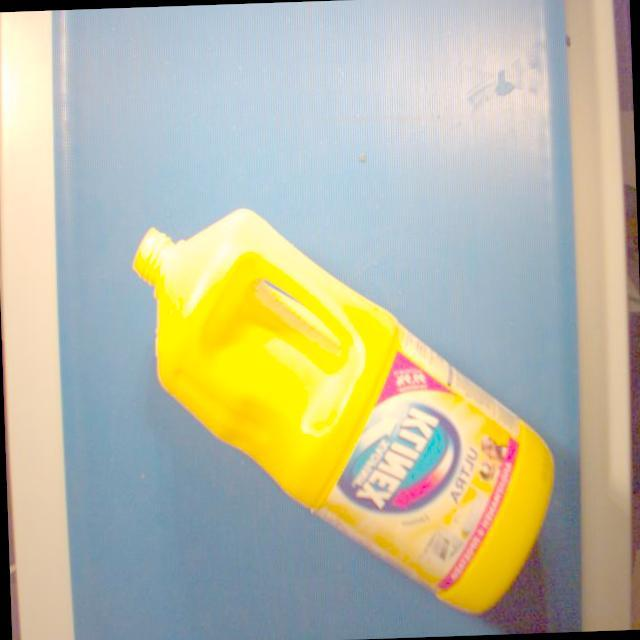HDPE Plastic: (128, 204, 558, 621)
